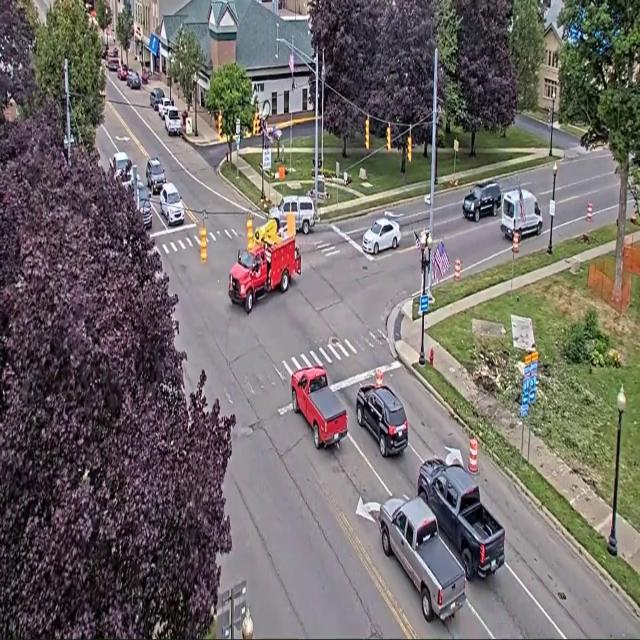car: (356, 385, 408, 457), (269, 195, 317, 234), (463, 182, 501, 222), (363, 218, 400, 254), (160, 183, 184, 225), (135, 180, 152, 229), (146, 158, 165, 194), (164, 107, 181, 135), (112, 152, 130, 175), (158, 96, 173, 119), (150, 88, 164, 111), (127, 71, 141, 89), (106, 56, 120, 72), (117, 65, 128, 80), (102, 44, 109, 59)
traffic signal: (199, 226, 207, 263), (253, 112, 260, 135), (386, 125, 392, 151), (407, 134, 412, 161), (365, 117, 369, 150), (217, 112, 222, 136), (548, 108, 552, 126)
truck: (417, 458, 505, 581), (378, 497, 465, 621), (229, 237, 300, 313), (291, 367, 347, 448)
